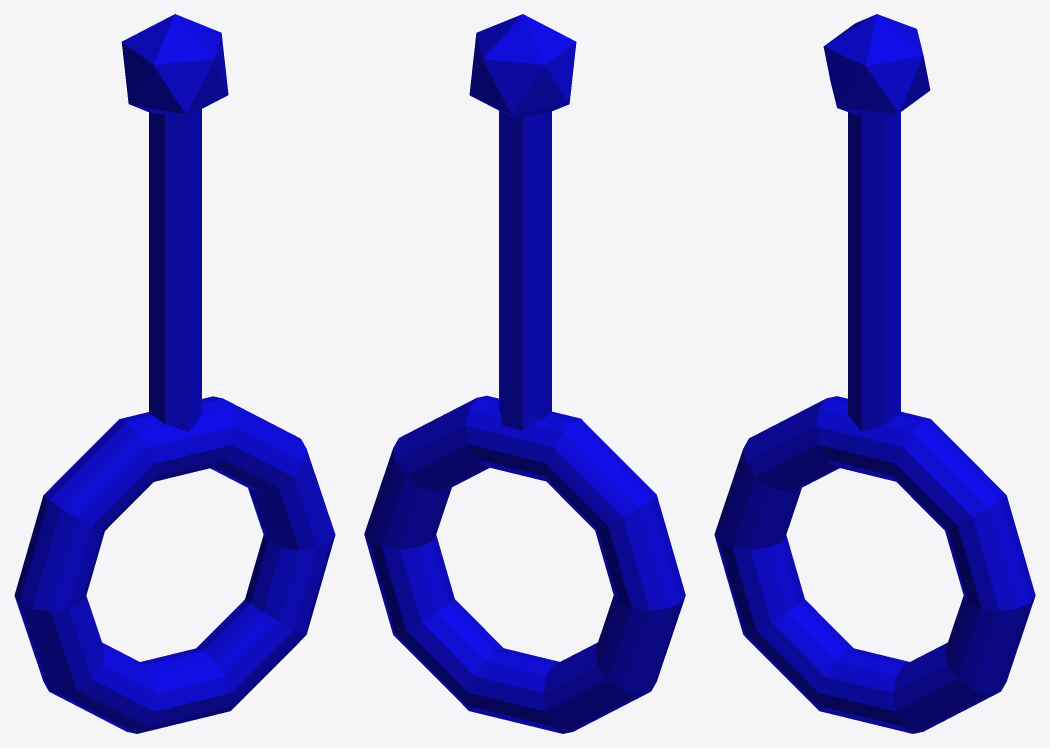
File: Work_Shop_Lever blue 1.fbx
3 renders of one model, left to right at view 1: azimuth 30°, elevation 25°; view 2: azimuth 150°, elevation 25°; view 3: azimuth 330°, elevation 25°, orthographic.
Visible parts, largest first — view 1: Torus.001; view 2: Torus.001; view 3: Torus.001.
Part boxes in pixels (x1,y1,x2,y2): Torus.001: (14,14,335,733); Torus.001: (364,14,685,733); Torus.001: (714,14,1035,733).
Bounding box in the file's own units: 0.7993 × 1.73 × 0.2271.
